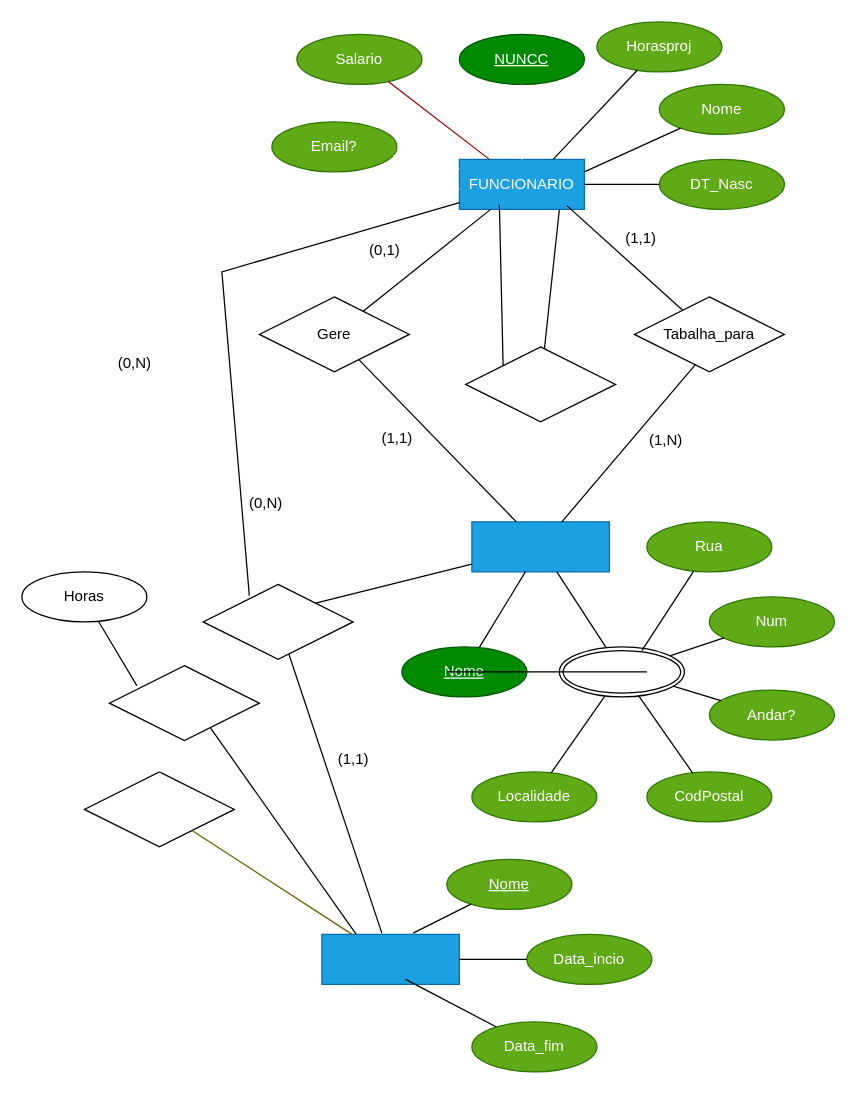
Image size: 856x1094. Some labels were removed from this diagram. Here are the shapes that lost their labels. From the top down, the centre of each, then its label:
At point (540, 384): "Supervisiona".
At point (540, 546): "DEPARTAMENTO".
At point (277, 621): "Controla".
At point (621, 671): "Localizacao".
At point (183, 702): "Trabalha_em".
At point (158, 809): "Dirige".
At point (390, 958): "PROJETO".
